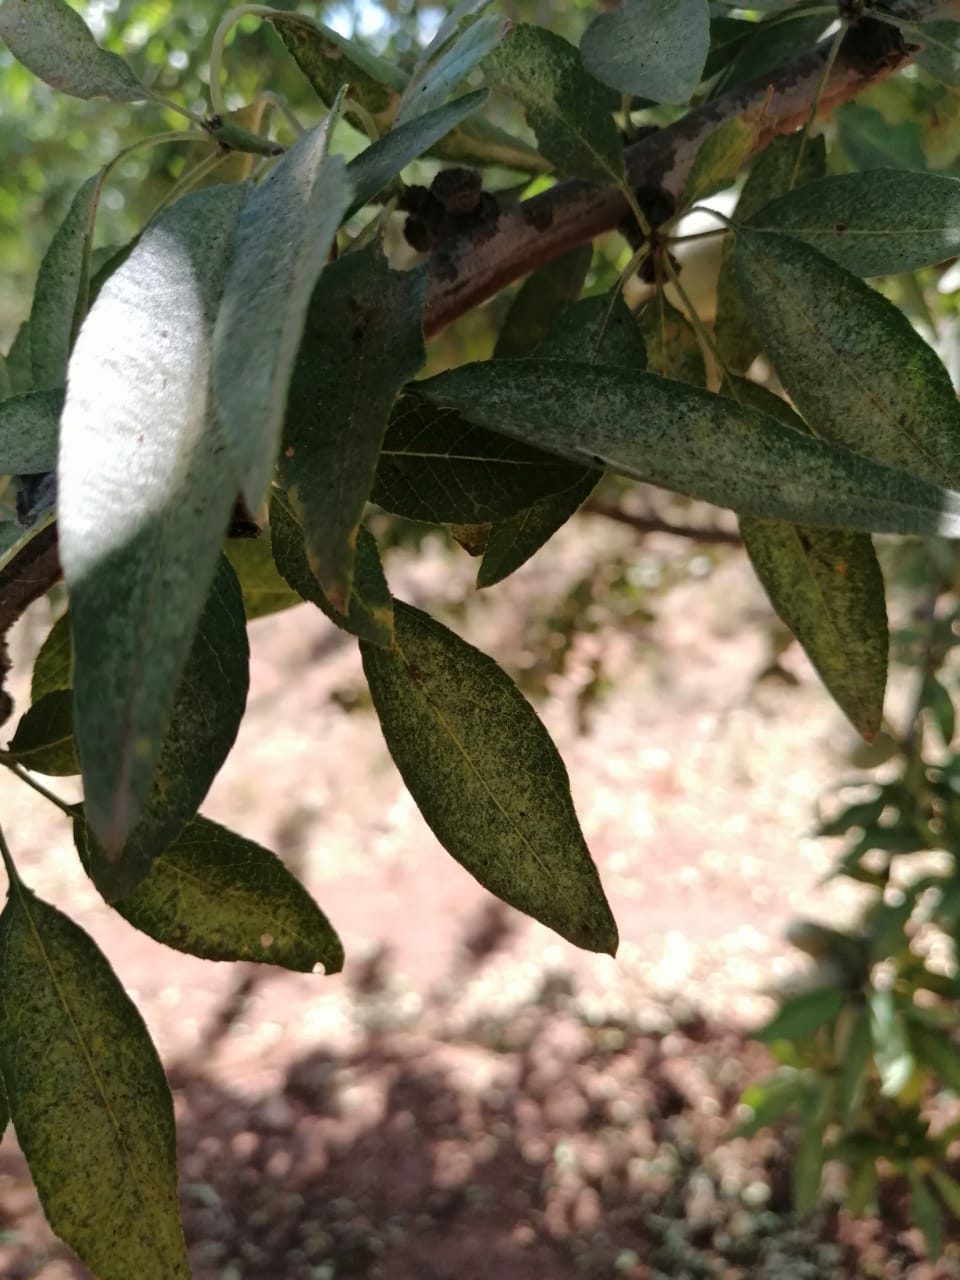acariens: (419, 356, 960, 538), (359, 598, 618, 961), (1, 877, 202, 1280), (733, 226, 960, 490), (475, 22, 630, 187)
